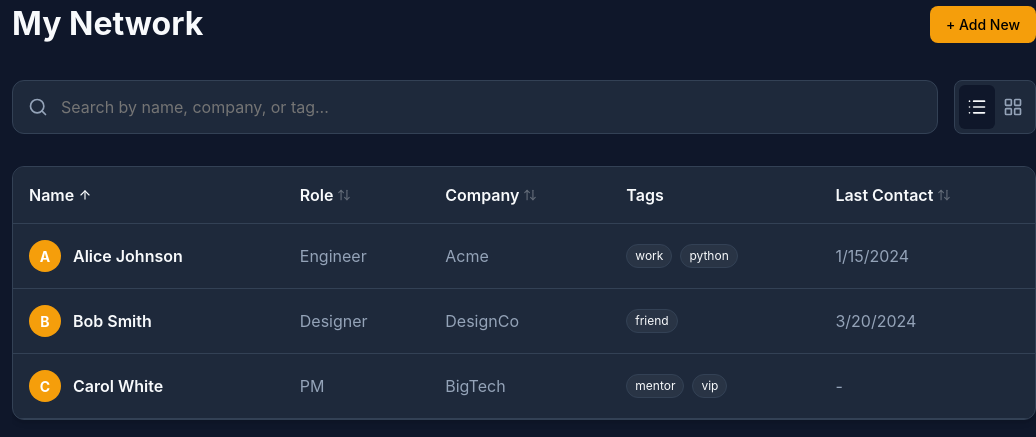
ConnectionList › filters connections by name search
This screenshot has width=1036, height=437.
Type "Alice" into the field with placeholder "Search by name, company, or tag...".
click(475, 107); type("Alice")  # box left=12, top=80, right=938, bottom=134
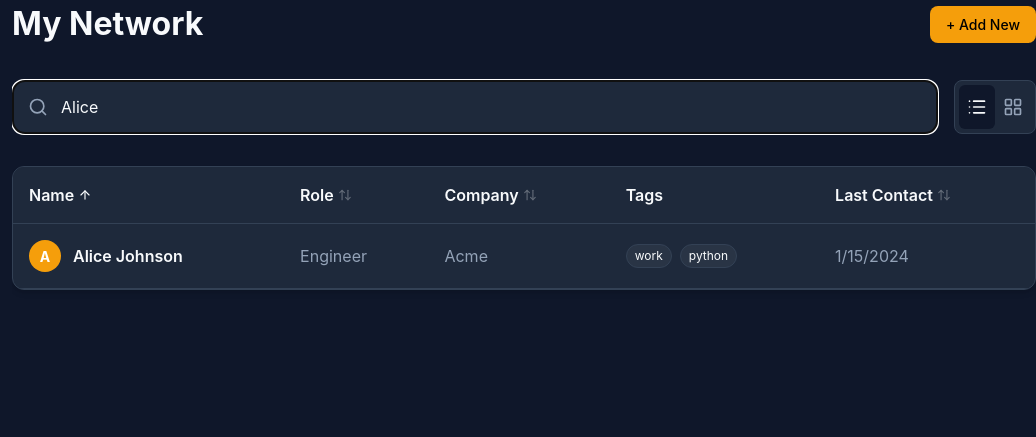
Expected: the link "A Alice Johnson" is shown, left=29, top=240, right=183, bottom=272
Now the link "Bob Smith" is gone
